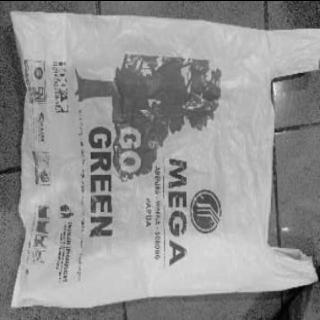objects: (7, 3, 320, 312)
